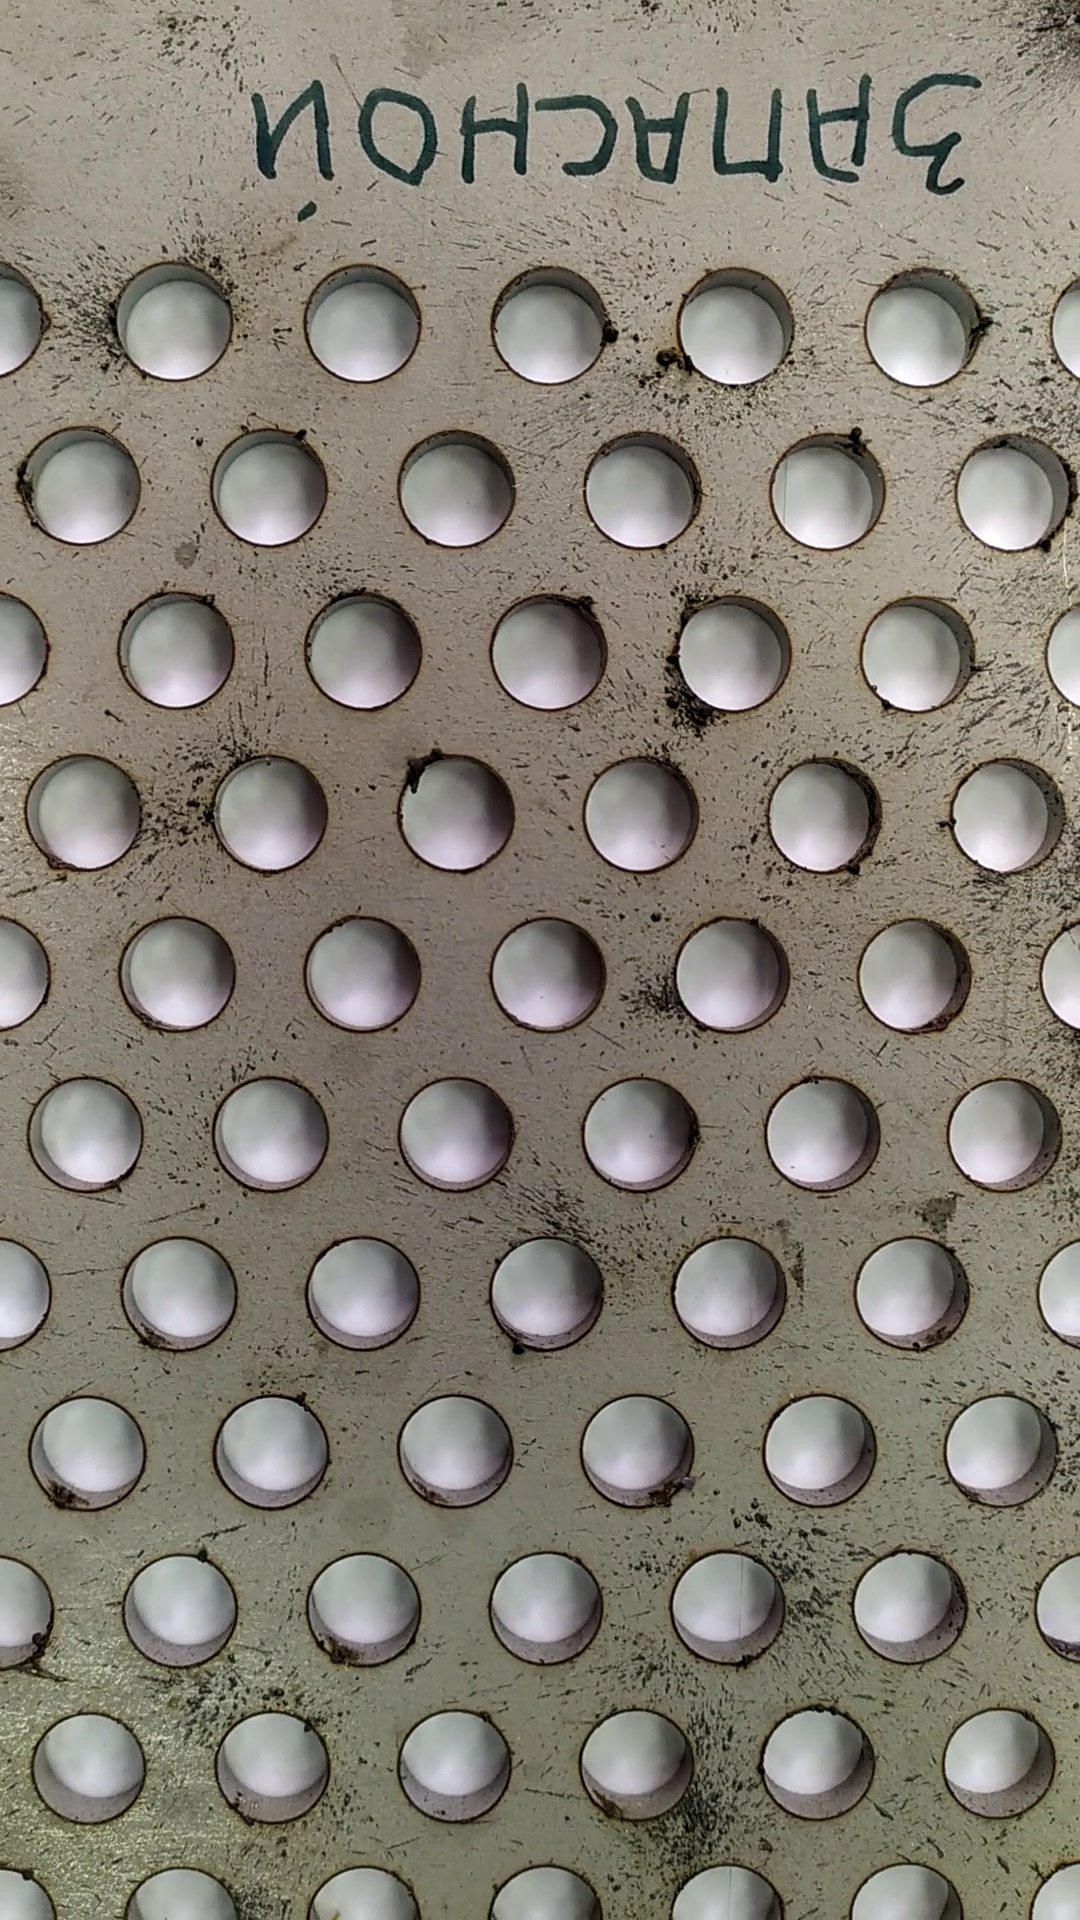Hole: (655, 578, 804, 727), (381, 740, 526, 885), (294, 579, 443, 715), (98, 247, 245, 382), (8, 417, 156, 553), (200, 419, 345, 556), (843, 1224, 989, 1360), (571, 744, 712, 884), (385, 419, 527, 558), (206, 1381, 343, 1524), (108, 909, 253, 1044), (761, 425, 905, 560), (382, 1381, 526, 1516), (378, 1701, 524, 1836), (294, 255, 434, 393), (840, 911, 977, 1052), (479, 258, 622, 393), (837, 1540, 985, 1671), (669, 256, 808, 393), (200, 748, 342, 884), (291, 909, 433, 1044), (16, 746, 160, 880), (15, 1068, 157, 1201), (108, 1226, 251, 1360), (473, 907, 618, 1038), (200, 1064, 347, 1193), (752, 748, 889, 885), (945, 422, 1080, 562), (564, 429, 709, 558), (837, 589, 992, 711), (659, 907, 794, 1046), (655, 1228, 794, 1362), (18, 1381, 160, 1513), (475, 585, 618, 715), (934, 1069, 1077, 1197), (104, 582, 243, 713), (567, 1698, 705, 1830), (477, 1542, 618, 1671), (564, 1071, 708, 1197), (749, 1697, 885, 1830), (291, 1540, 430, 1671), (15, 1701, 153, 1832), (661, 1538, 791, 1673), (942, 748, 1071, 885), (926, 1697, 1063, 1826), (571, 1381, 702, 1515), (847, 262, 981, 392), (389, 1068, 524, 1197), (932, 1383, 1062, 1516), (295, 1226, 426, 1354), (210, 1698, 336, 1830), (485, 1230, 612, 1360), (760, 1069, 885, 1199), (756, 1385, 880, 1513), (116, 1548, 245, 1671)
